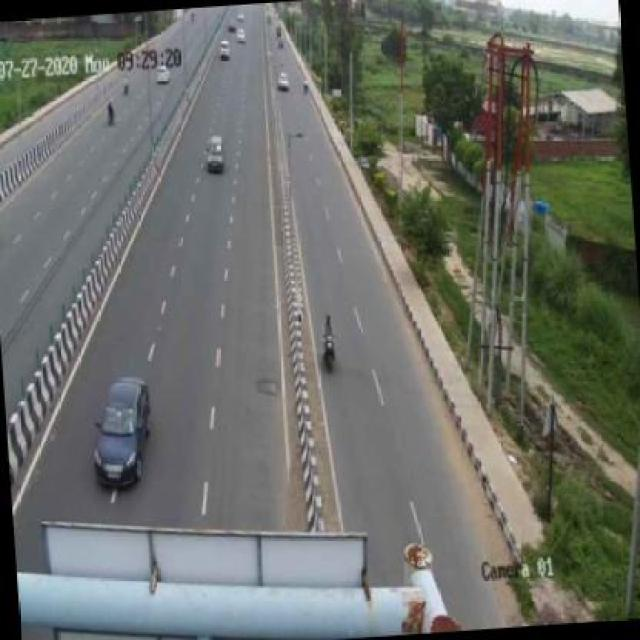car: (83, 377, 162, 498), (202, 131, 229, 183)
